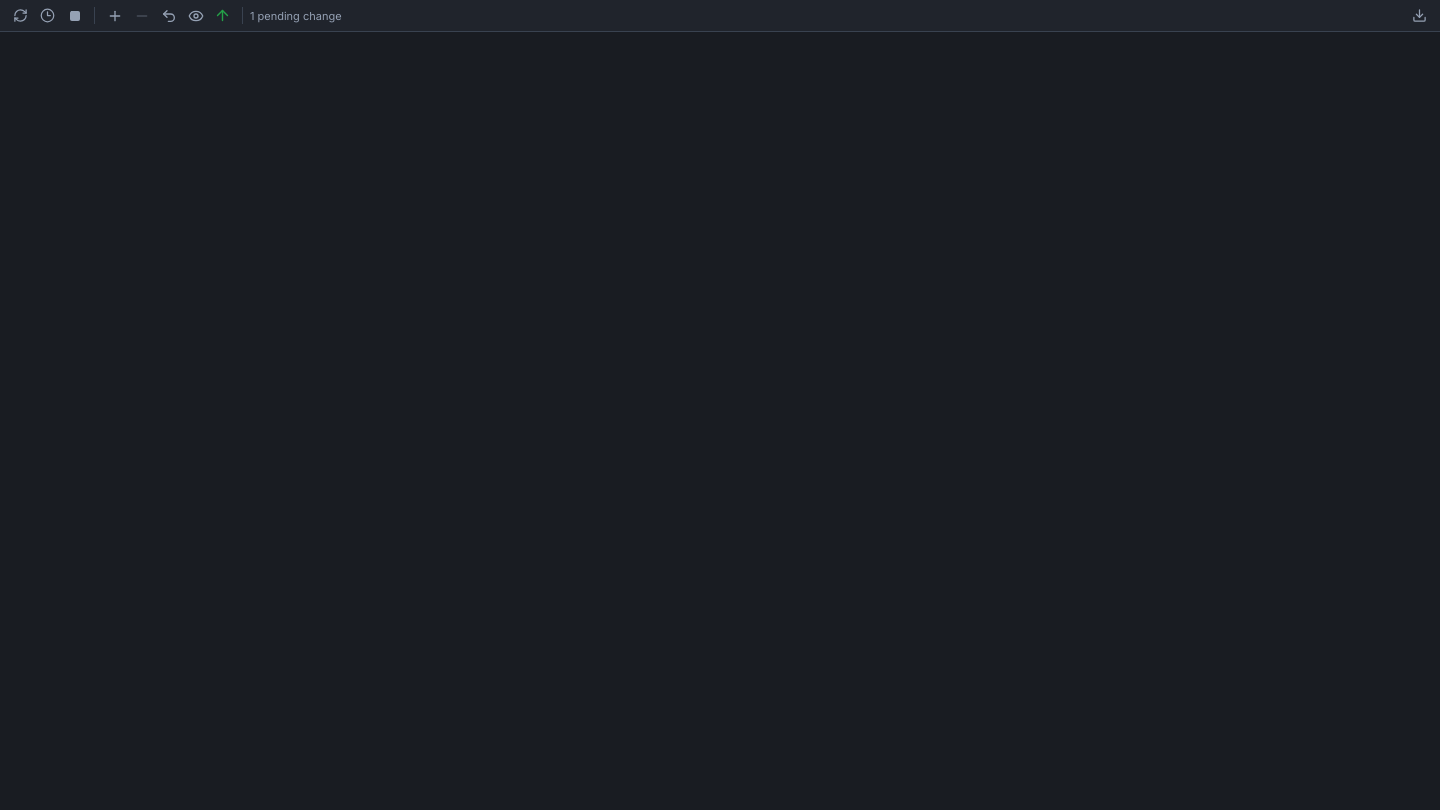
Test: requires confirmation before discarding pending changes for refresh
Later steps or results of the test are not shown.
Click the button named "Refresh results" at {"x": 20, "y": 16}, box [8, 2, 33, 30]
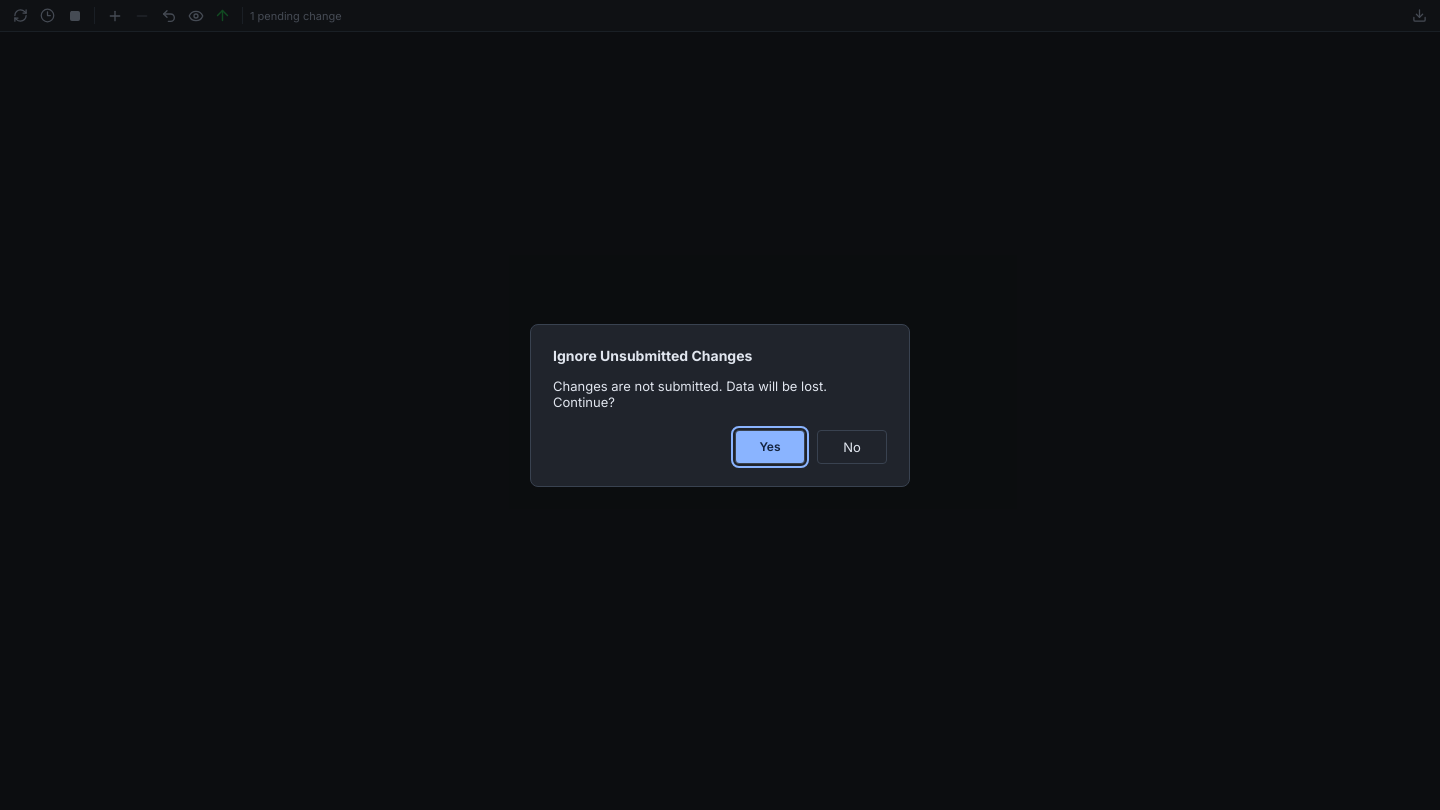
Result: the dialog "Ignore Unsubmitted Changes" is shown at [530, 324, 910, 486]
